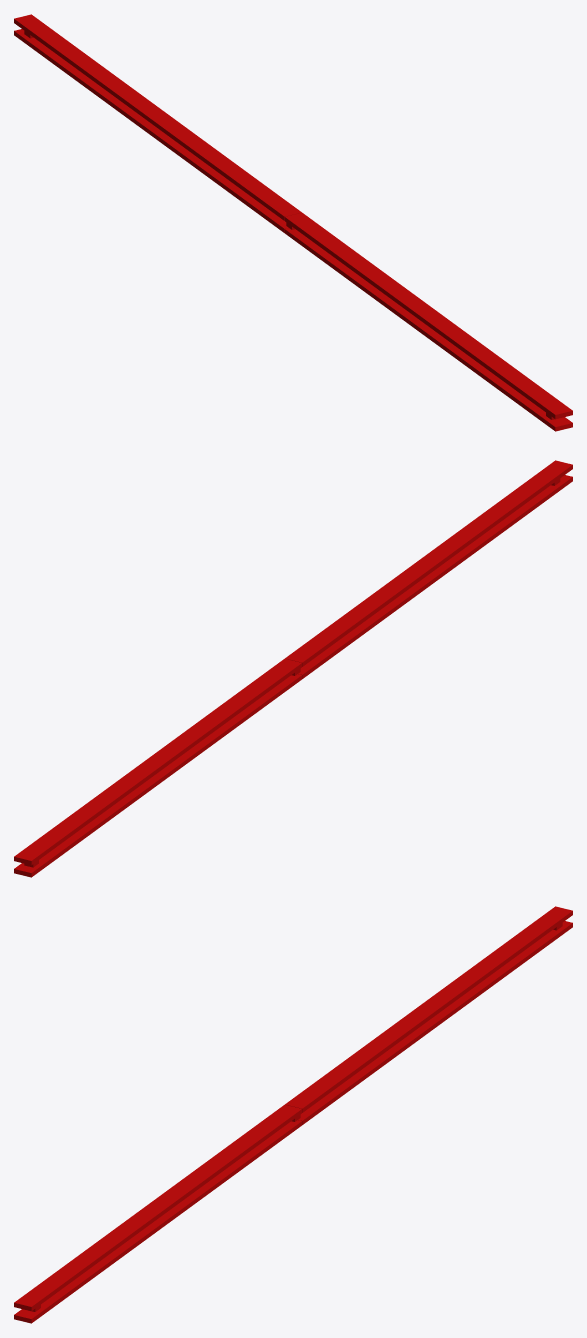
The model's file is Metal_Structure_02.fbx.
3 views of the same model, one above another, from view 1: azimuth 30°, elevation 25°; view 2: azimuth 150°, elevation 25°; view 3: azimuth 330°, elevation 25° (orthographic).
Parts seen in each view (by area): view 1: Metal_Structure_02; view 2: Metal_Structure_02; view 3: Metal_Structure_02.
Boxes of the visible parts, x1,y1,x2,y2 form: Metal_Structure_02: (14,14,572,431); Metal_Structure_02: (14,460,572,877); Metal_Structure_02: (14,906,572,1323).
Bounding box in the file's own units: 21.42 × 19.36 × 1146.
